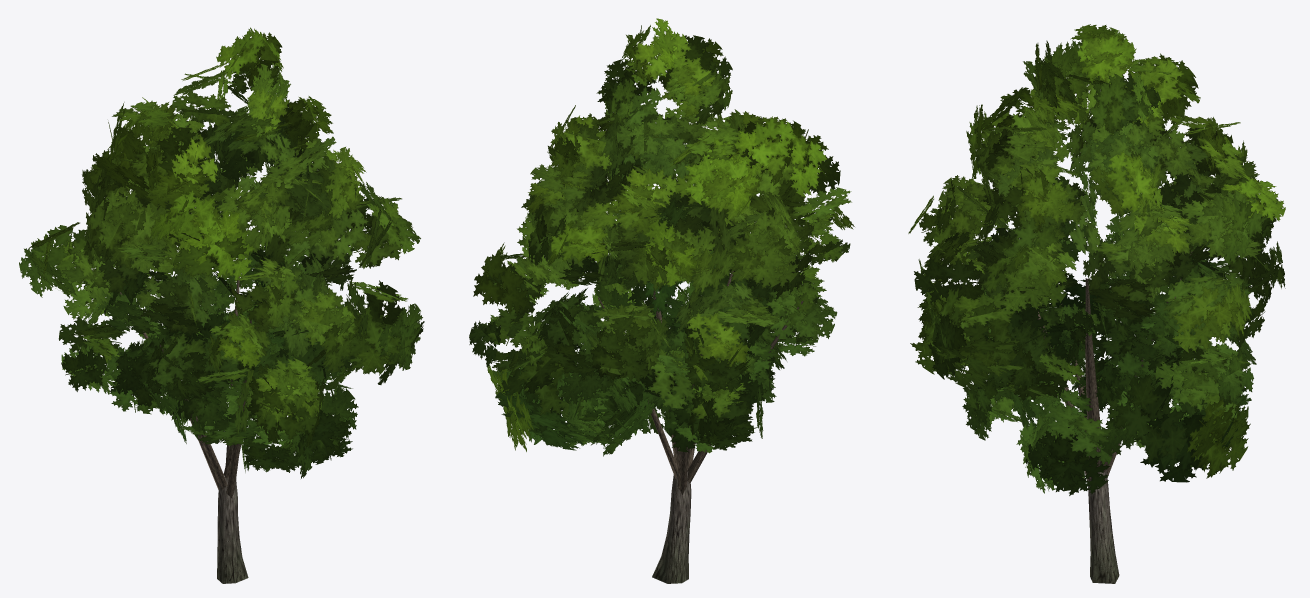
File: maple-large-lite.glb
3 views of the same model, side by side, from view 1: azimuth 30°, elevation 25°; view 2: azimuth 150°, elevation 25°; view 3: azimuth 270°, elevation 25° (orthographic). The views are drawn at different scales.
Parts seen in each view (by area): view 1: Leaves, Bark; view 2: Leaves, Bark; view 3: Leaves, Bark.
Boxes of the visible parts, bbox=[...] form: Leaves: bbox=[19, 27, 424, 478]; Bark: bbox=[120, 276, 266, 583]; Leaves: bbox=[469, 18, 854, 456]; Bark: bbox=[598, 271, 803, 583]; Leaves: bbox=[908, 24, 1285, 495]; Bark: bbox=[1037, 251, 1192, 583].
Bounding box in the file's own units: 6.93 × 12.05 × 7.58.
Materials: 2 (2 with a texture image).
